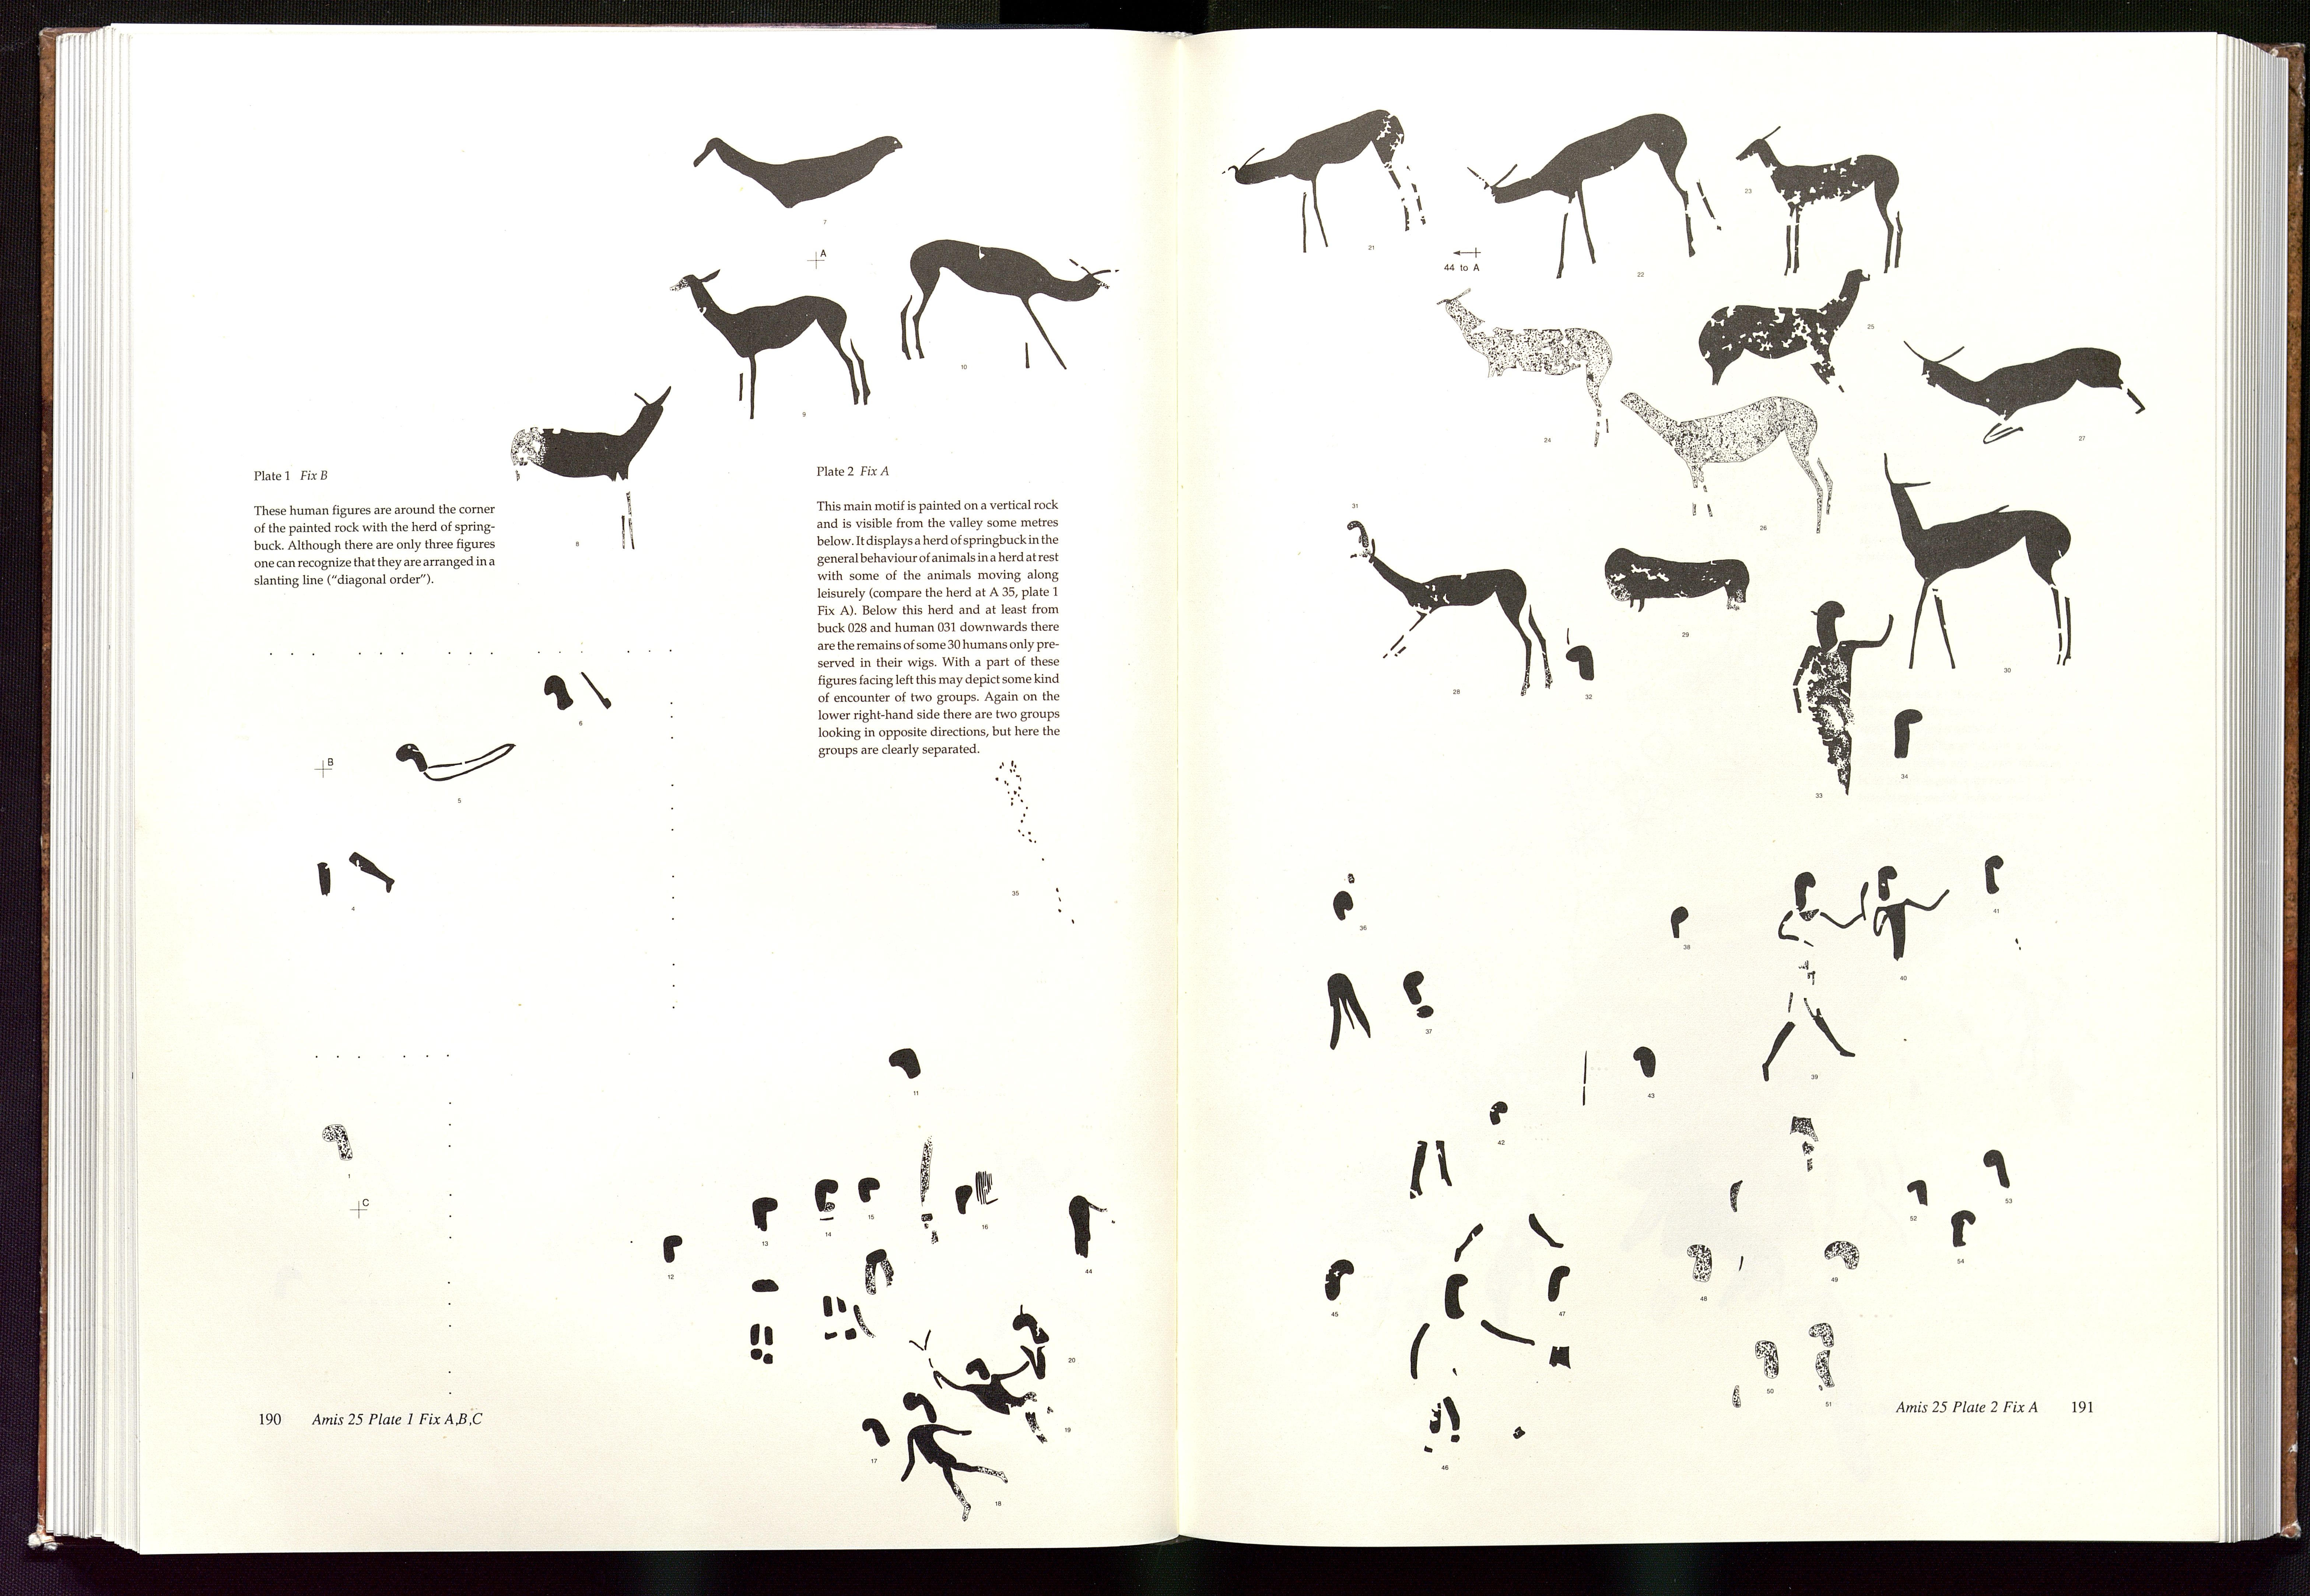animal: (1873, 455, 2082, 681), (1465, 106, 1728, 278), (1333, 512, 1559, 703), (1620, 382, 1856, 541), (1429, 278, 1625, 465), (893, 232, 1124, 379), (670, 261, 883, 416), (1888, 327, 2158, 443), (1225, 106, 1431, 259), (500, 382, 677, 554), (1733, 121, 1912, 278), (1686, 266, 1871, 401), (687, 129, 920, 217), (1603, 529, 1760, 617)
human: (1763, 863, 1868, 1084), (881, 1386, 1016, 1523), (881, 1037, 962, 1266), (1313, 853, 1382, 1049), (1868, 865, 1952, 998), (1964, 1143, 2033, 1273)
